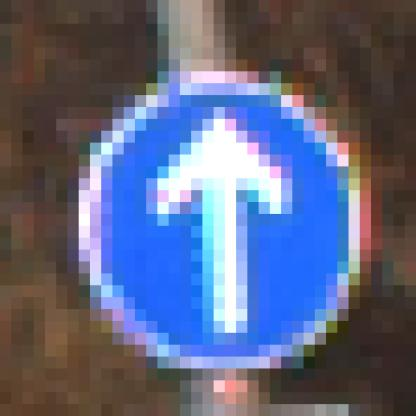AheadOnly: (68, 61, 361, 358)
